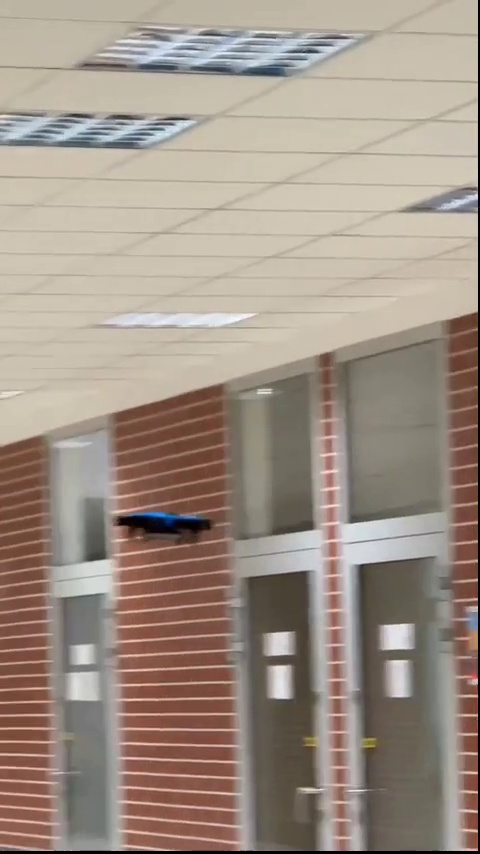drone: (114, 507, 211, 547)
